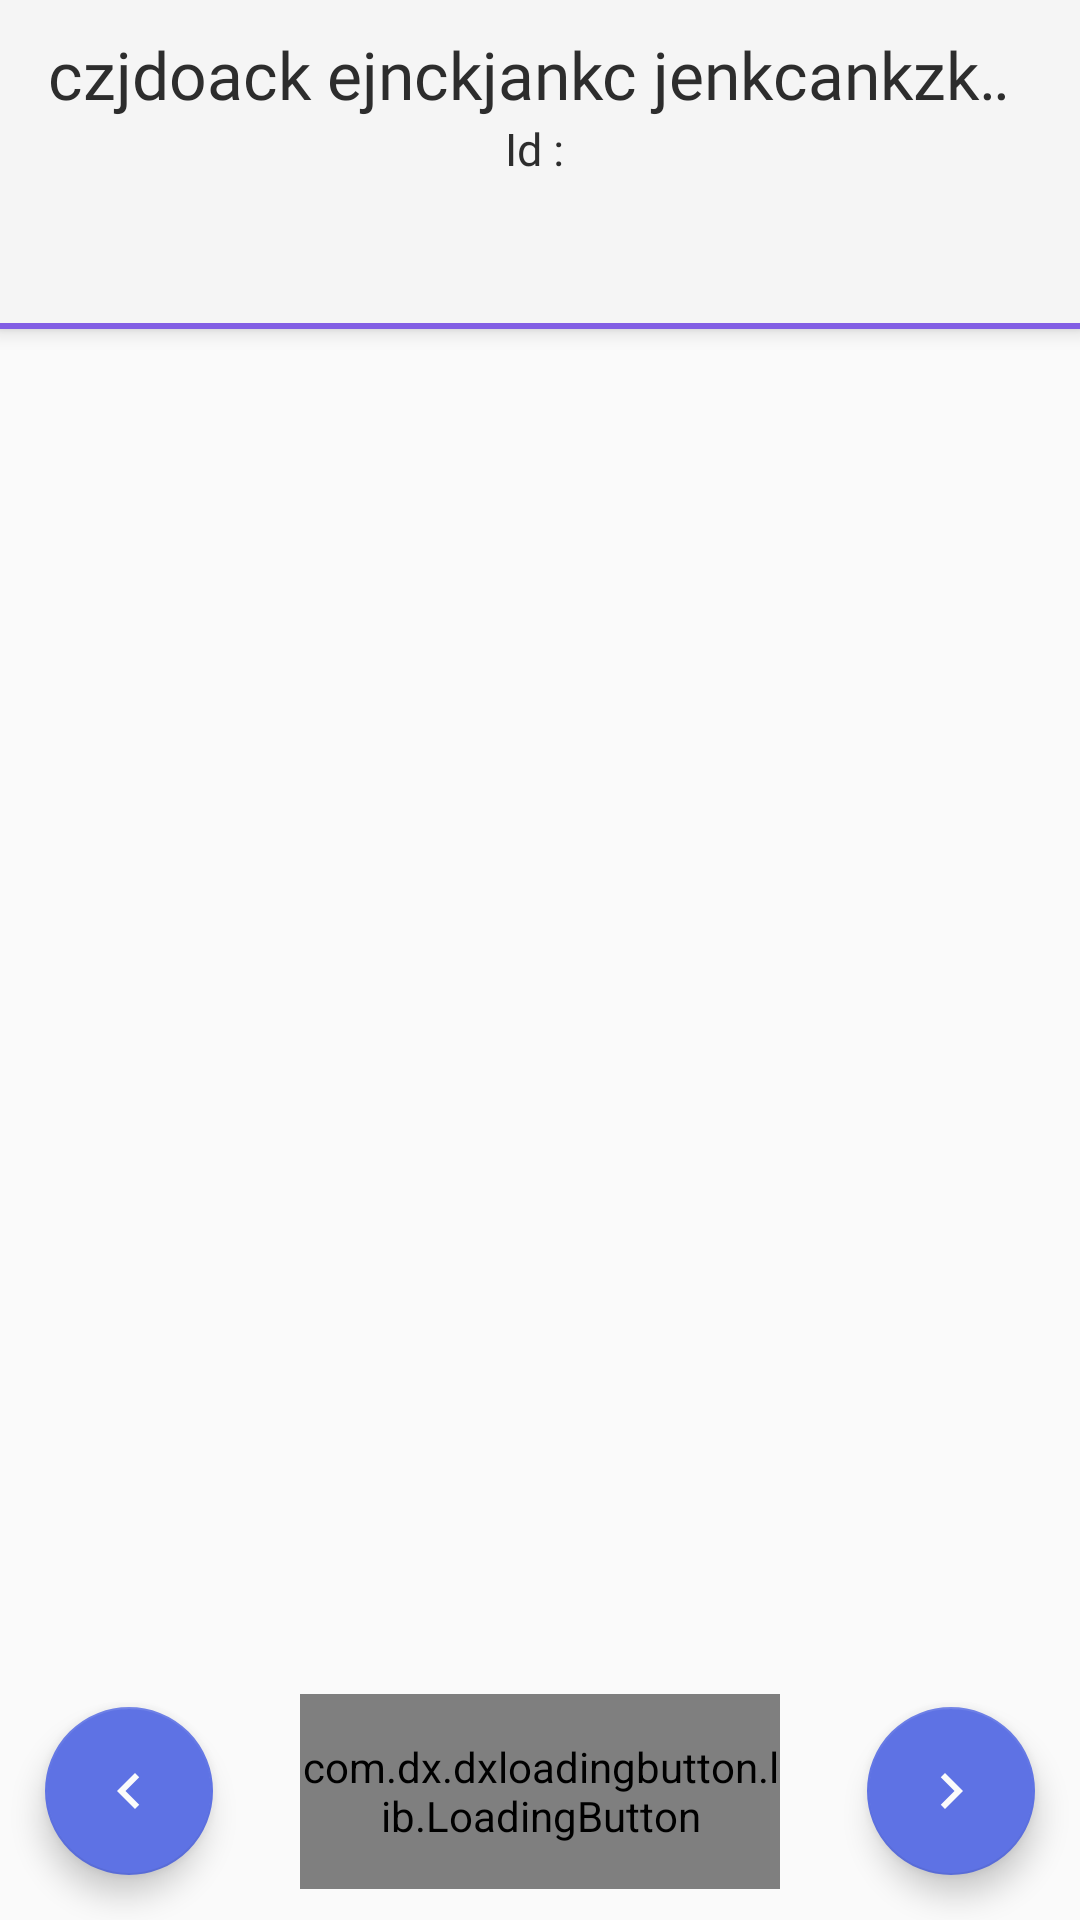

Icon click points for this 1080px x 1920px phone screenshot, format point (x, y):
next arrow: point (951, 1791)
previous arrow: point (129, 1791)
